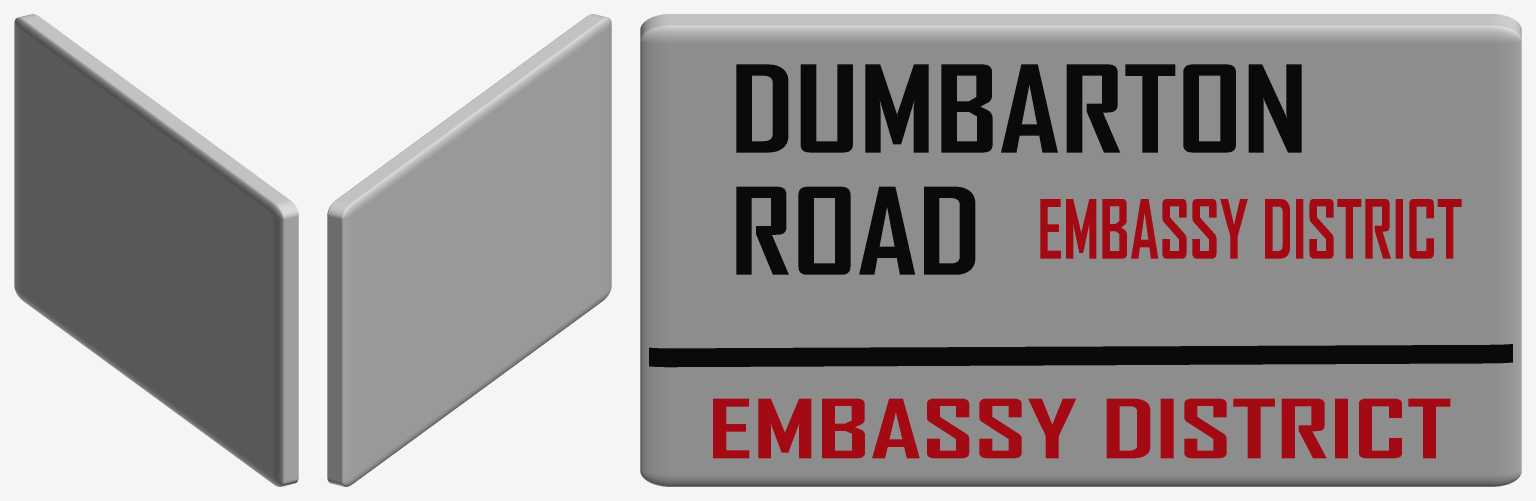
Rendered from uk_styled_street_sign_77.fbx.
3 renders of one model, left to right at view 1: azimuth 30°, elevation 25°; view 2: azimuth 150°, elevation 25°; view 3: azimuth 270°, elevation 25°, orthographic. The views are drawn at different scales.
Visible parts, largest first — view 1: Cube; view 2: Cube; view 3: Cube, Text, Text.002, Text.003, Text.001.
Part boxes in pixels (x1,y1,x2,y2): Cube: (14,14,298,486); Cube: (327,14,611,486); Cube: (640,14,1521,486); Text: (736,64,1301,152); Text.002: (713,398,1450,458); Text.003: (1040,199,1461,258); Text.001: (736,186,975,274).
Bounding box in the file's own units: 1.63 × 20.07 × 34.74.
